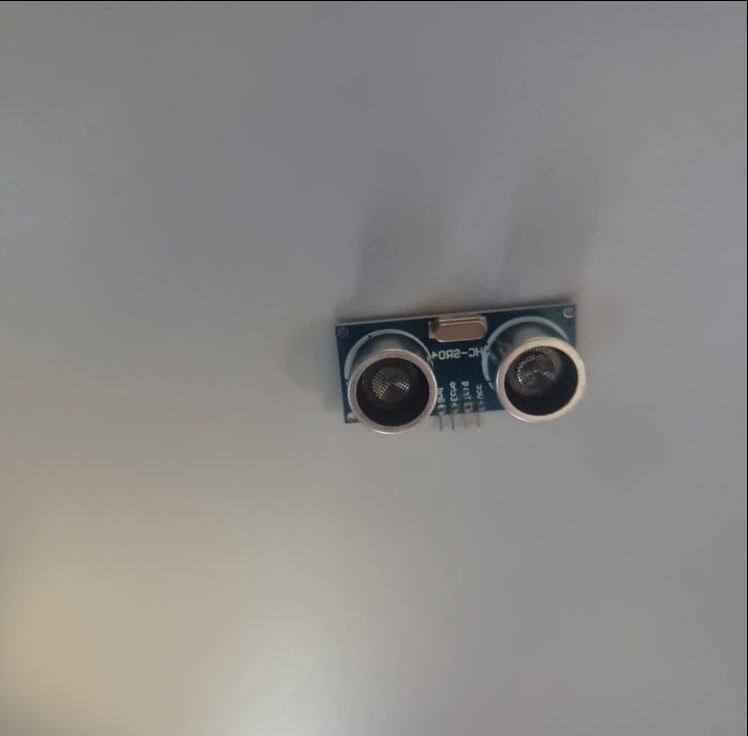SENSOR: (332, 301, 588, 436)
